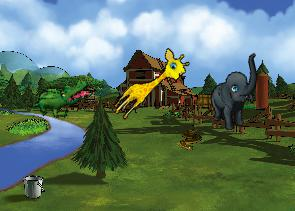crocodile: (27, 65, 95, 131)
elephant: (201, 53, 271, 133)
giraffe: (109, 43, 193, 129)
